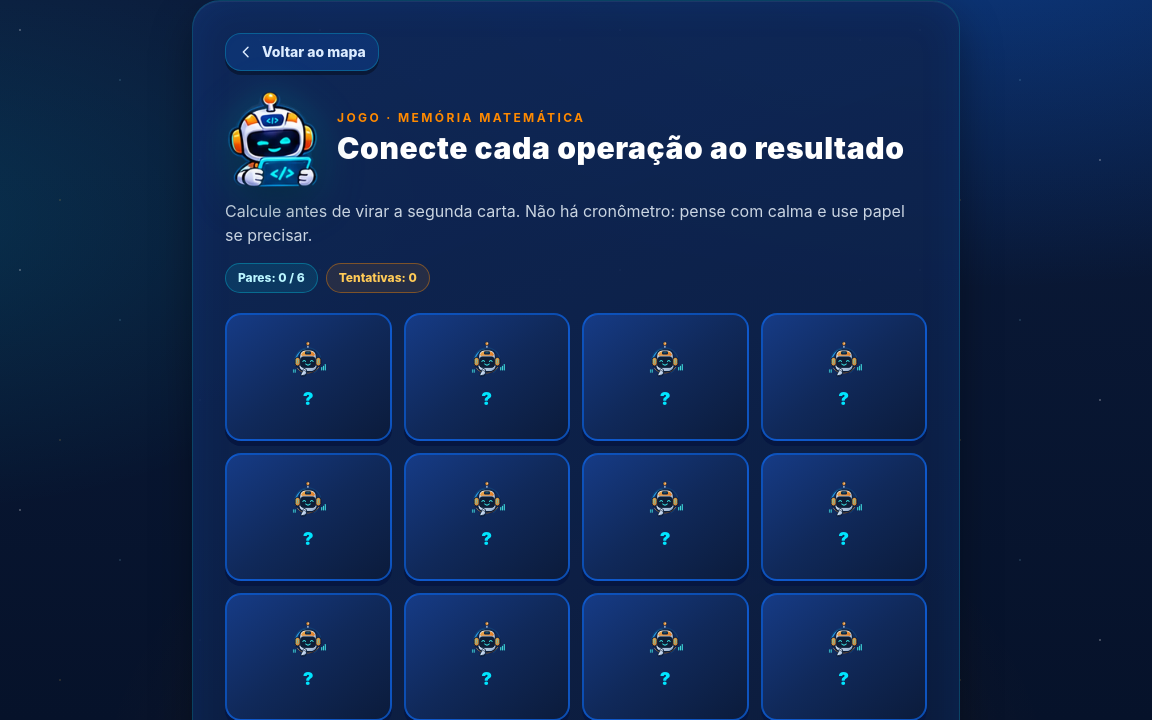
MemoryScreen › explains a found pair
The width and height of the screenshot is (1152, 720).
Click the 8th button "?". click: click(844, 517)
box: [760, 453, 927, 581]
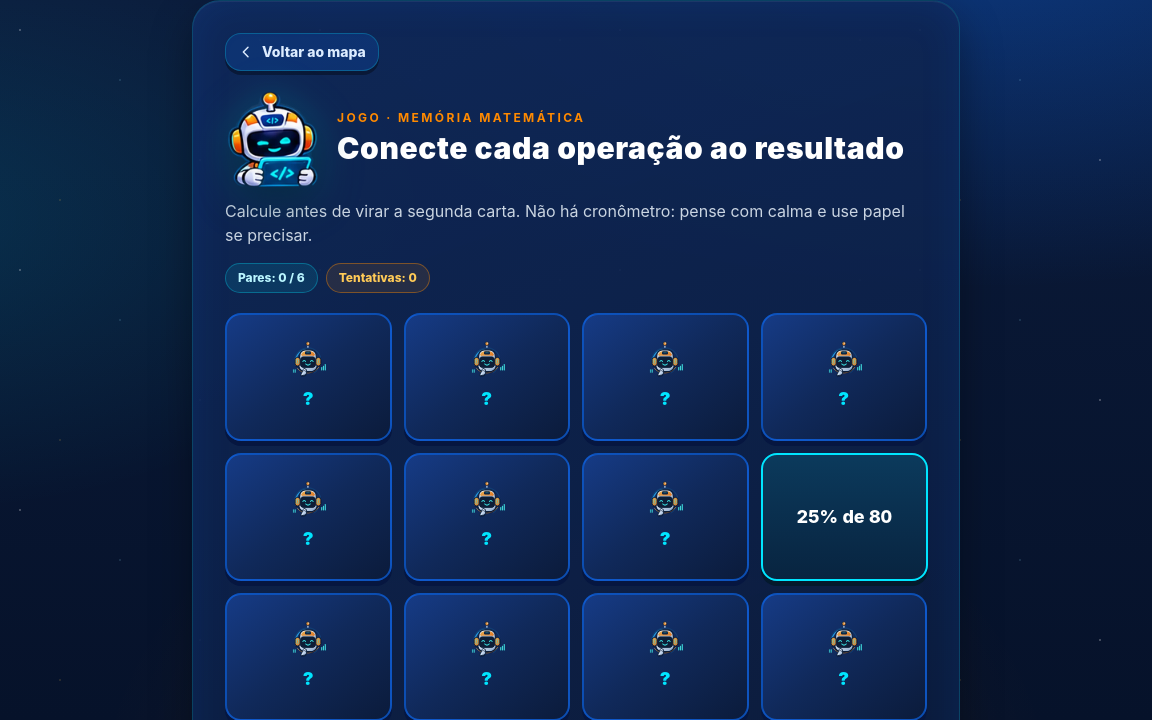
Click the 2nd button "?". click: click(487, 377)
box: [404, 313, 570, 441]
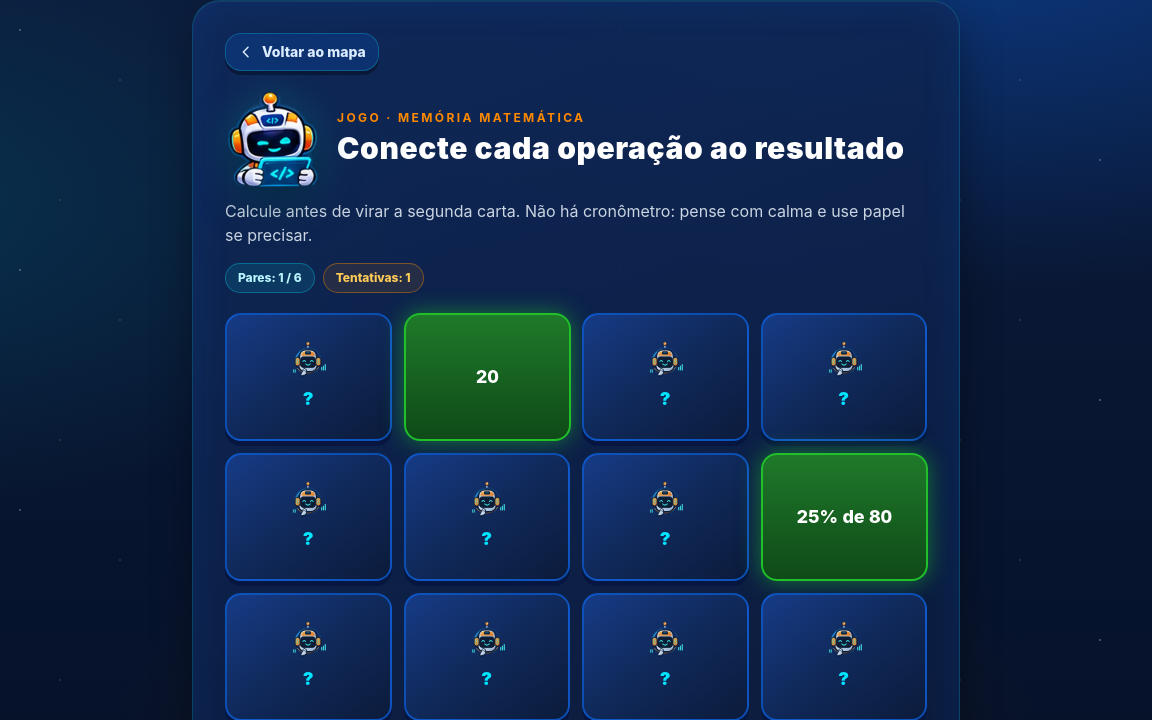
Expected: the button with aria-label "Operação: 25% de 80, par encontrado" is disabled, [760, 453, 927, 581]
